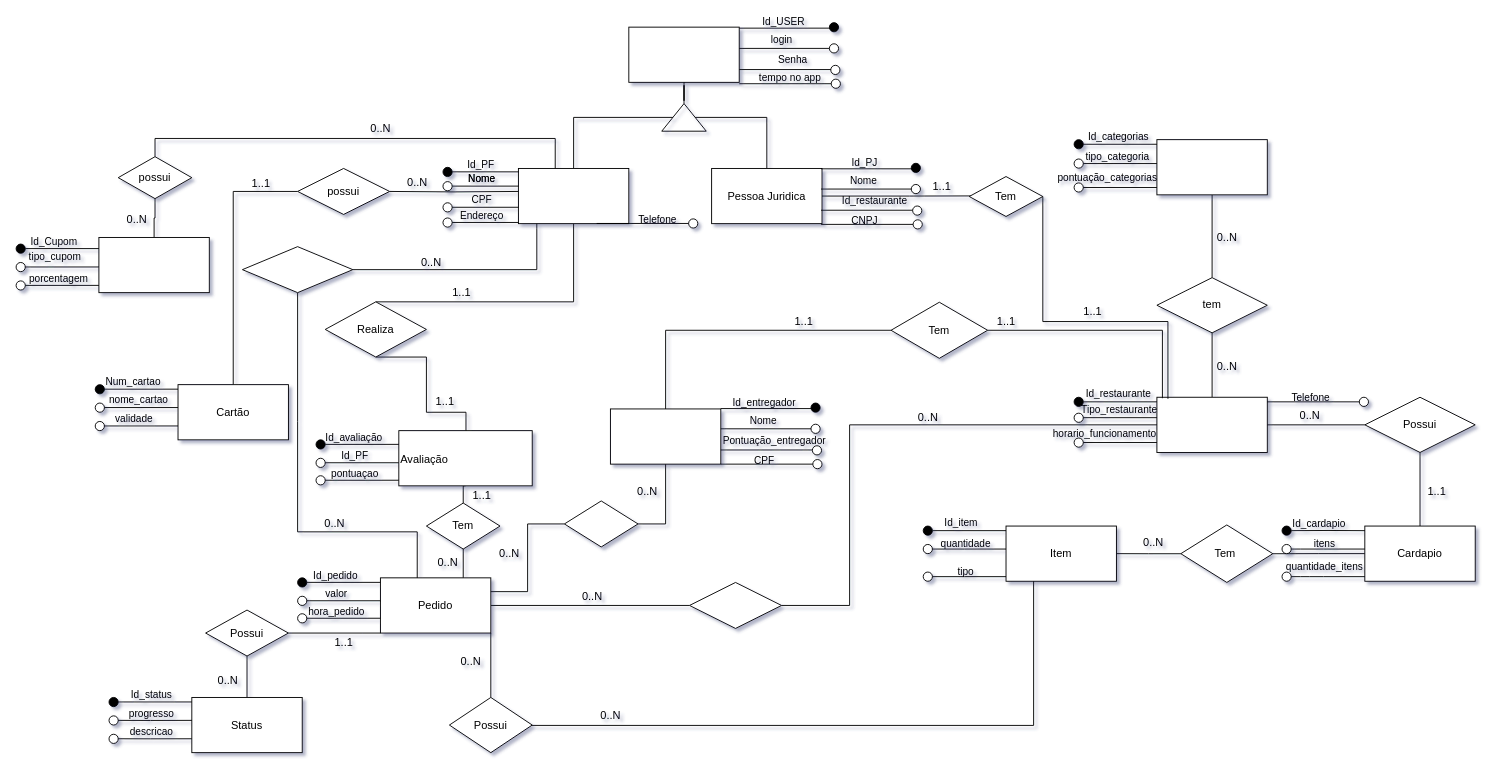
The diagram is 1497 pixels wide and 776 high, and some of its shapes have lost their labels. The shapes that lost their labels are listed below. From the top down, each one's box as (x1, y1, x2, y2) in pixels, then its label:
(628, 26, 739, 82): Usuarios
(1156, 139, 1267, 195): Categorias
(518, 168, 629, 224): Pessoa fisica
(98, 237, 209, 293): Cupom
(242, 246, 353, 293): Faz
(610, 408, 721, 464): Entregadores
(1156, 396, 1267, 452): Restaurante
(564, 500, 638, 547): Entrega
(689, 582, 782, 628): Em
